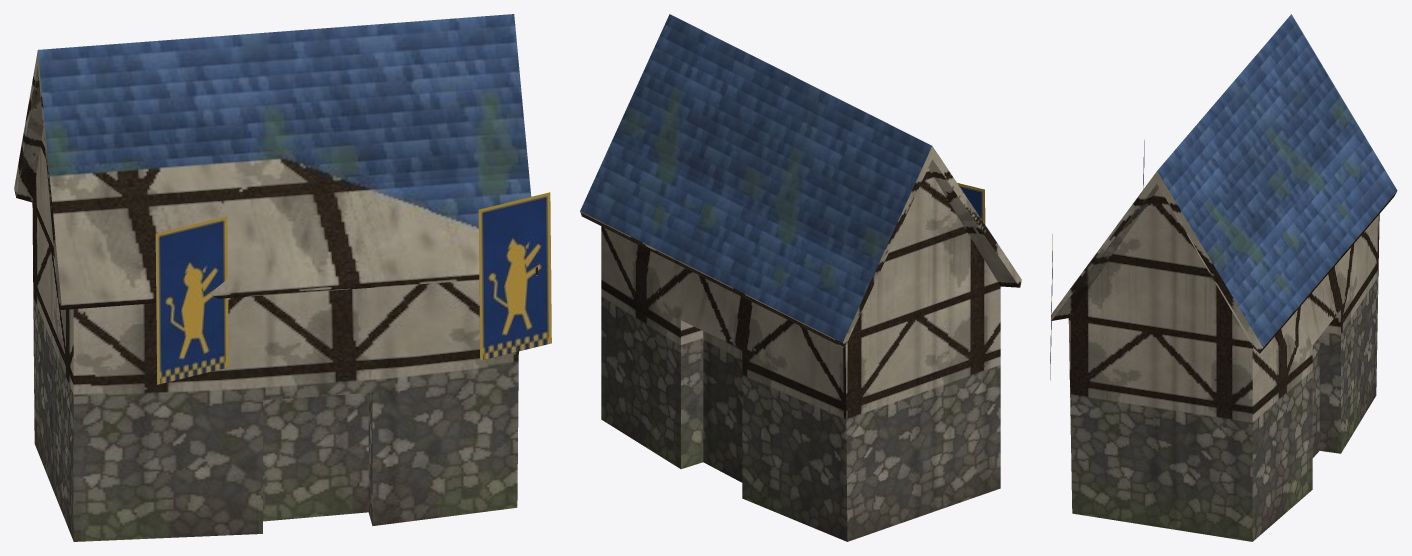
The model's file is house_01_card_lod1.glb.
3 views of the same model, side by side, from view 1: azimuth 30°, elevation 25°; view 2: azimuth 150°, elevation 25°; view 3: azimuth 270°, elevation 25° (orthographic). The views are drawn at different scales.
Parts seen in each view (by area): view 1: house_01_game_card; view 2: house_01_game_card; view 3: house_01_game_card.
Part boxes in pixels (x1,y1,x2,y2): house_01_game_card: (14,14,551,541); house_01_game_card: (580,14,1021,541); house_01_game_card: (1050,14,1397,541).
Size of the model in its own units: 9.3 by 8.28 by 7.19.
1 material, 1 textured.
